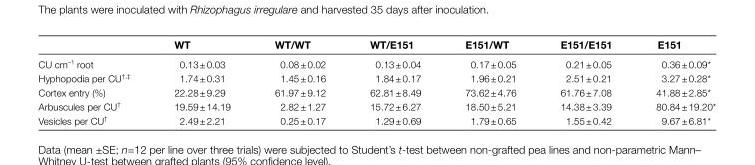table: (37, 37, 715, 125)
table column: (37, 37, 151, 125), (151, 37, 251, 125), (251, 37, 347, 125), (537, 37, 633, 125), (347, 37, 442, 125), (442, 37, 537, 125), (633, 37, 715, 125)
table column header: (37, 37, 715, 53)
table row: (37, 53, 715, 70), (37, 37, 715, 53), (37, 70, 715, 84), (37, 84, 715, 98), (37, 98, 715, 112), (37, 112, 715, 125)
